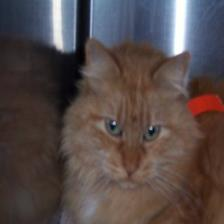cat: (67, 38, 198, 205)
